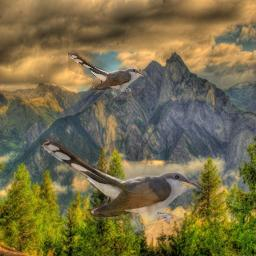Cuckoo: (40, 134, 204, 239), (68, 50, 147, 100)
